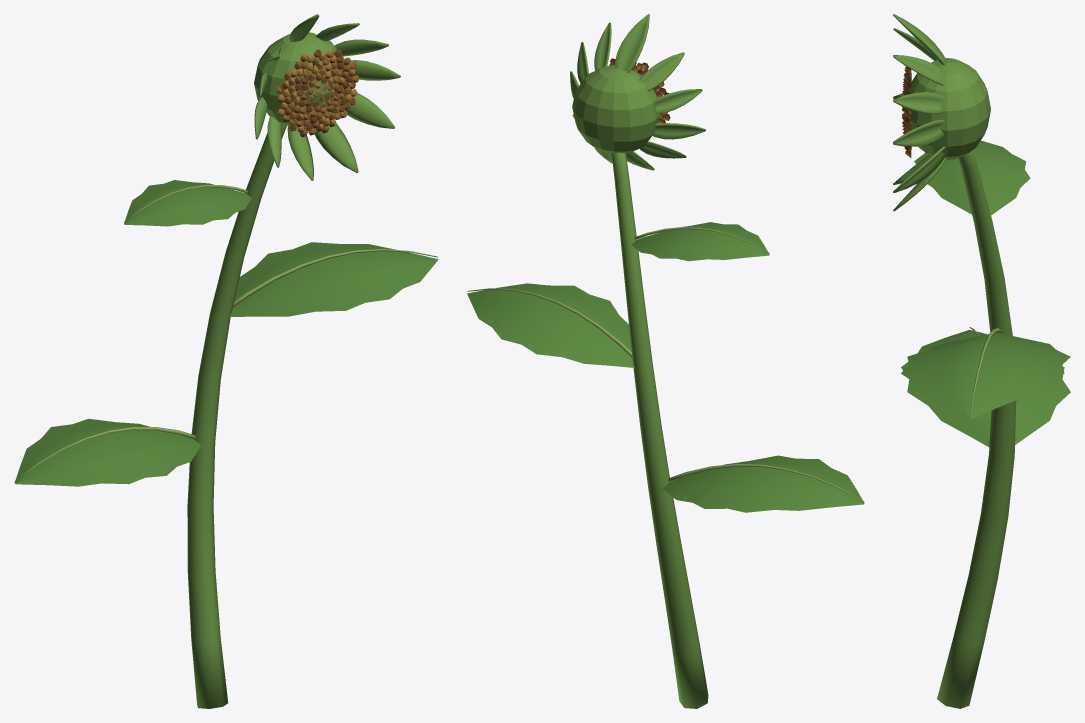
Rendered from sunflower-v2-bud-0.glb.
3 renders of one model, left to right at view 1: azimuth 30°, elevation 25°; view 2: azimuth 150°, elevation 25°; view 3: azimuth 270°, elevation 25°, orthographic. The views are drawn at different scales.
Visible parts, largest first — view 1: Curved tapered stem; view 2: Curved tapered stem; view 3: Curved tapered stem.
Boxes of the visible parts, bbox=[...] form: Curved tapered stem: bbox=[14, 14, 438, 708]; Curved tapered stem: bbox=[467, 14, 864, 708]; Curved tapered stem: bbox=[893, 14, 1070, 708].
Size of the model in its own units: 0.2702 by 0.4246 by 0.0939.
